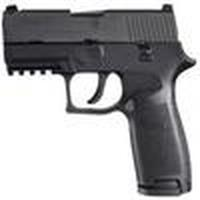gun: (1, 1, 200, 195)
